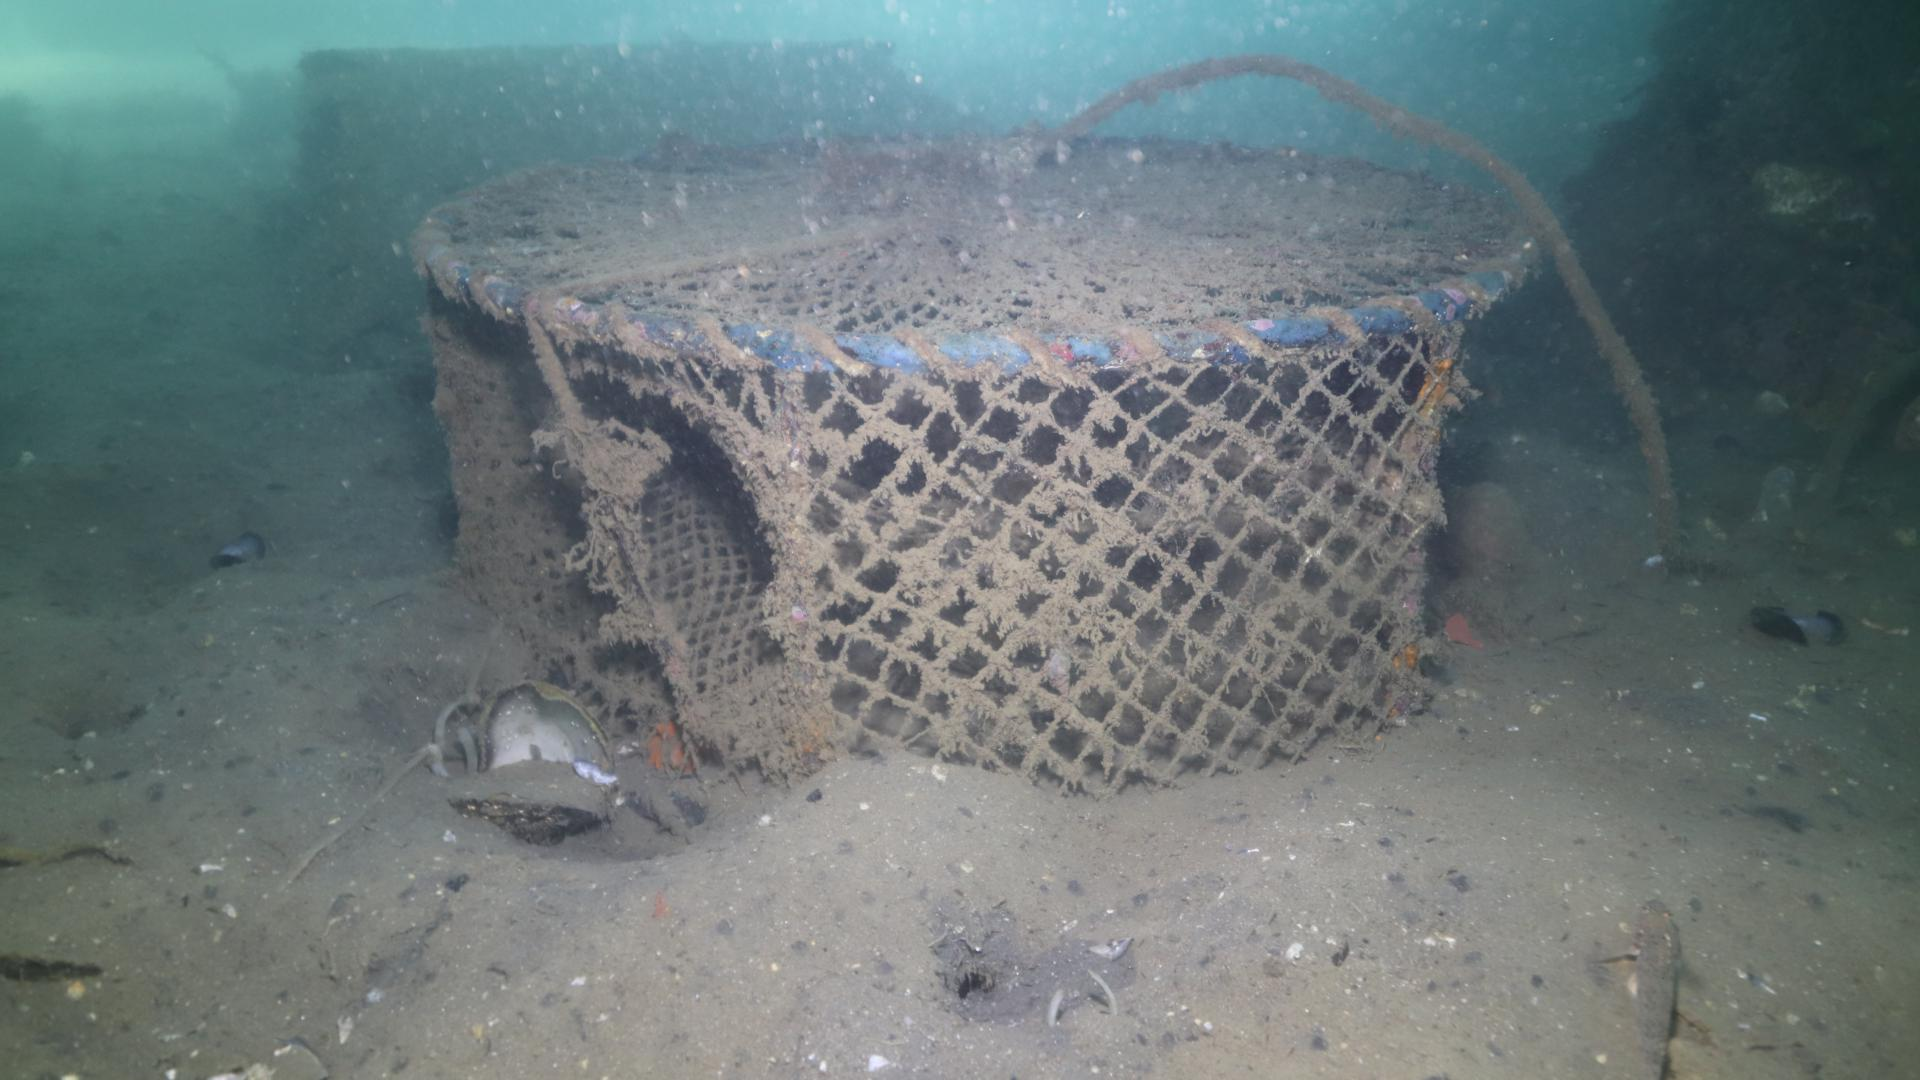circular fish trap: (404, 142, 1543, 808)
